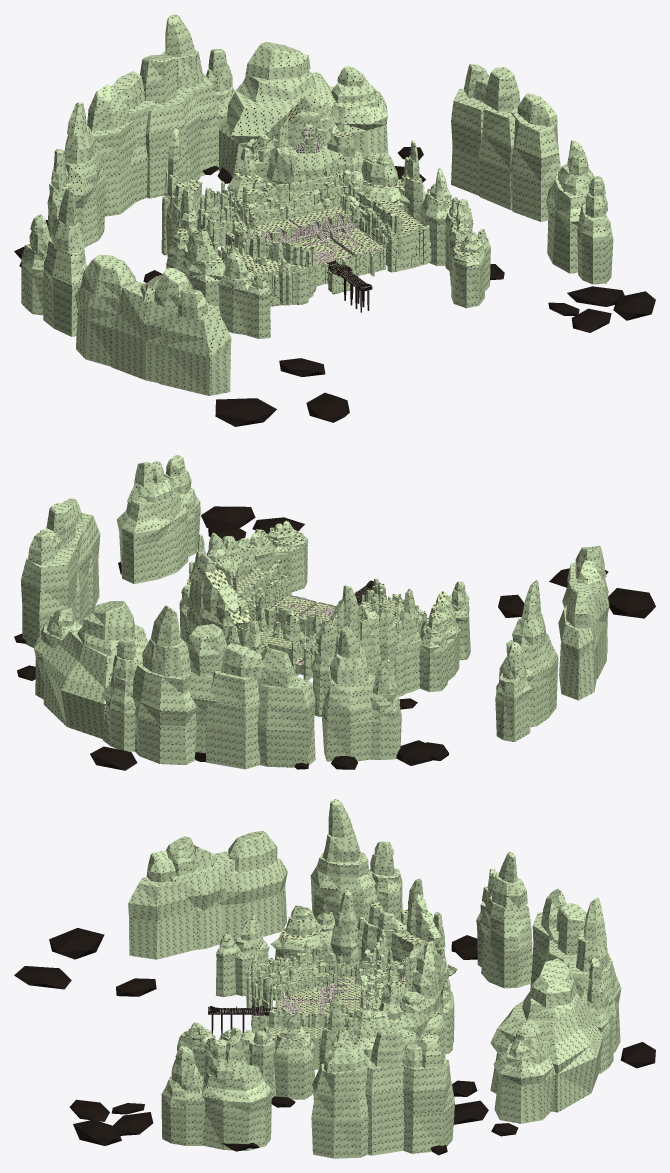
Rendered from LOBBY_02_TERRAIN_e4dec7.fbx.
3 views of the same model, one above another, from view 1: azimuth 30°, elevation 25°; view 2: azimuth 150°, elevation 25°; view 3: azimuth 270°, elevation 25° (orthographic). The views are drawn at different scales.
Parts seen in each view (by area): view 1: TER_Mountains_Peaks__Cliff_Rock_Far_Dark, TER_Mountains_Peaks__Cliff_Rock_Far, TER_Mountains_Peaks__Cliff_Rock_Mid_Dark, TER_Mountains_Peaks__Cliff_Rock_Mid, TER_Far_Valley__P_OPM_ConcreteLight, TER_Mountains_Near__Cliff_Rock_Dark, TER_Mountains_Near__Cliff_Rock, TER_Mountains_Near__Cliff_Rock_Top, TER_Mountains_Near__Cliff_Rock_Mid, TER_Mountains_Peaks__Grass_Dark, TER_Mountains_Near__Cliff_Rock_Mid_Dark, TER_Mountains_Near__Grass_Dark (+3 smaller); view 2: TER_Mountains_Peaks__Cliff_Rock_Far_Dark, TER_Mountains_Peaks__Cliff_Rock_Far, TER_Mountains_Peaks__Cliff_Rock_Mid_Dark, TER_Mountains_Peaks__Cliff_Rock_Mid, TER_Far_Valley__P_OPM_ConcreteLight, TER_Mountains_Peaks__Grass_Dark, TER_Mountains_Near__Grass_Dark, TER_Mountains_Near__Cliff_Rock_Top, TER_Mountains_Near__Cliff_Rock_Mid, TER_Mountains_Near__Cliff_Rock_Mid_Dark, TER_Mountains_Near__Cliff_Rock_Dark, TER_Mountains_Near__Cliff_Rock (+1 smaller); view 3: TER_Mountains_Peaks__Cliff_Rock_Far_Dark, TER_Mountains_Peaks__Cliff_Rock_Far, TER_Mountains_Peaks__Cliff_Rock_Mid_Dark, TER_Mountains_Peaks__Cliff_Rock_Mid, TER_Far_Valley__P_OPM_ConcreteLight, TER_Mountains_Near__Cliff_Rock_Dark, TER_Mountains_Near__Cliff_Rock_Top, TER_Mountains_Peaks__Grass_Dark, TER_Mountains_Near__Cliff_Rock, TER_Mountains_Near__Cliff_Rock_Mid, TER_Mountains_Near__Cliff_Rock_Mid_Dark, TER_Mountains_Near__Grass (+2 smaller).
Boxes of the visible parts, bbox=[...] form: TER_Mountains_Peaks__Cliff_Rock_Far_Dark: bbox=[29, 64, 607, 382]; TER_Mountains_Peaks__Cliff_Rock_Far: bbox=[21, 14, 613, 395]; TER_Mountains_Peaks__Cliff_Rock_Mid_Dark: bbox=[164, 85, 490, 338]; TER_Mountains_Peaks__Cliff_Rock_Mid: bbox=[161, 107, 488, 308]; TER_Far_Valley__P_OPM_ConcreteLight: bbox=[14, 147, 655, 426]; TER_Mountains_Near__Cliff_Rock_Dark: bbox=[197, 190, 428, 306]; TER_Mountains_Near__Cliff_Rock: bbox=[207, 189, 429, 305]; TER_Mountains_Near__Cliff_Rock_Top: bbox=[208, 181, 429, 282]; TER_Mountains_Near__Cliff_Rock_Mid: bbox=[200, 167, 362, 227]; TER_Mountains_Peaks__Grass_Dark: bbox=[162, 102, 488, 281]; TER_Mountains_Near__Cliff_Rock_Mid_Dark: bbox=[198, 161, 355, 229]; TER_Mountains_Near__Grass_Dark: bbox=[197, 172, 425, 273]; TER_Mountains_Peaks__Cliff_Rock_Far_Dark: bbox=[28, 455, 609, 767]; TER_Mountains_Peaks__Cliff_Rock_Far: bbox=[21, 462, 608, 769]; TER_Mountains_Peaks__Cliff_Rock_Mid_Dark: bbox=[179, 520, 470, 716]; TER_Mountains_Peaks__Cliff_Rock_Mid: bbox=[180, 523, 466, 693]; TER_Far_Valley__P_OPM_ConcreteLight: bbox=[14, 506, 655, 770]; TER_Mountains_Peaks__Grass_Dark: bbox=[188, 527, 456, 654]; TER_Mountains_Near__Grass_Dark: bbox=[236, 569, 418, 649]; TER_Mountains_Near__Cliff_Rock_Top: bbox=[236, 559, 426, 627]; TER_Mountains_Near__Cliff_Rock_Mid: bbox=[247, 602, 320, 642]; TER_Mountains_Near__Cliff_Rock_Mid_Dark: bbox=[252, 595, 321, 636]; TER_Mountains_Near__Cliff_Rock_Dark: bbox=[240, 564, 402, 662]; TER_Mountains_Near__Cliff_Rock: bbox=[244, 569, 425, 635]; TER_Mountains_Peaks__Cliff_Rock_Far_Dark: bbox=[146, 830, 621, 1155]; TER_Mountains_Peaks__Cliff_Rock_Far: bbox=[128, 799, 609, 1158]; TER_Mountains_Peaks__Cliff_Rock_Mid_Dark: bbox=[177, 890, 453, 1097]; TER_Mountains_Peaks__Cliff_Rock_Mid: bbox=[185, 878, 457, 1099]; TER_Far_Valley__P_OPM_ConcreteLight: bbox=[14, 928, 655, 1155]; TER_Mountains_Near__Cliff_Rock_Dark: bbox=[246, 953, 362, 1069]; TER_Mountains_Near__Cliff_Rock_Top: bbox=[247, 948, 370, 1028]; TER_Mountains_Peaks__Grass_Dark: bbox=[181, 902, 455, 1051]; TER_Mountains_Near__Cliff_Rock: bbox=[248, 953, 366, 1027]; TER_Mountains_Near__Cliff_Rock_Mid: bbox=[365, 928, 392, 1010]; TER_Mountains_Near__Cliff_Rock_Mid_Dark: bbox=[362, 941, 398, 1010]; TER_Mountains_Near__Grass: bbox=[247, 938, 387, 1019].
Bounding box in the file's own units: 1309 × 377 × 1491.
Materials: 10 (5 with a texture image).
